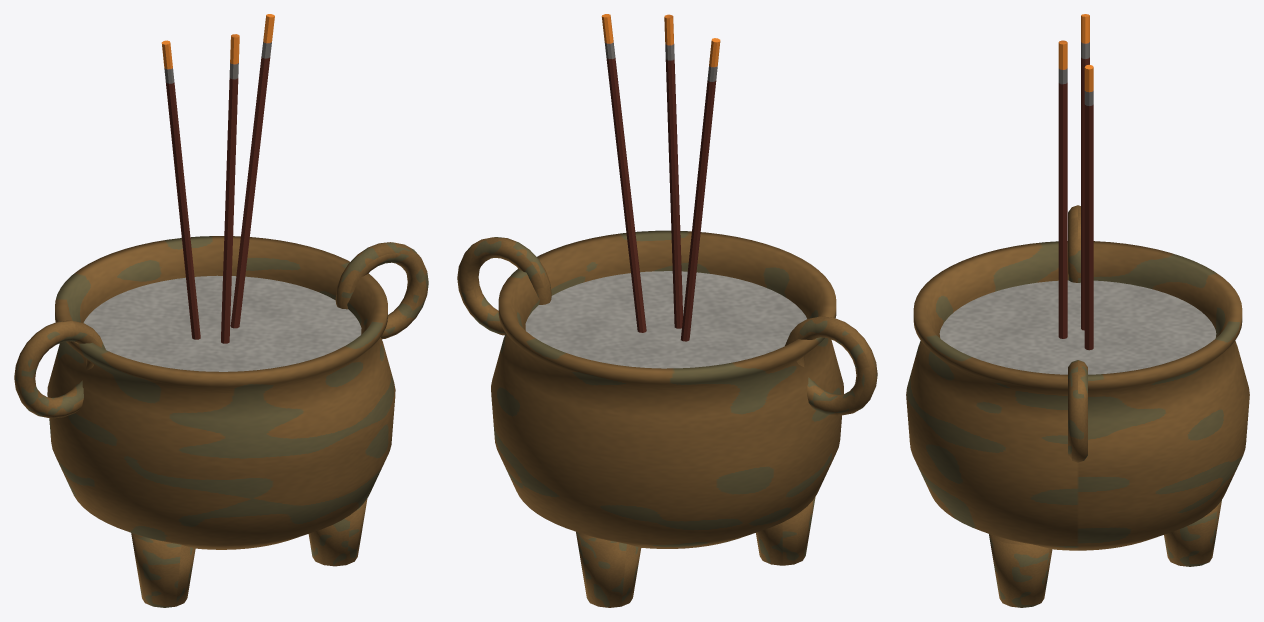
Rendered from z3_incensario.obj.
The picture shows the model from 3 angles, left to right: view 1: azimuth 30°, elevation 25°; view 2: azimuth 150°, elevation 25°; view 3: azimuth 270°, elevation 25°; orthographic projection. The views are drawn at different scales.
Parts seen in each view (by area): view 1: incensario; view 2: incensario; view 3: incensario.
Boxes of the visible parts, x1,y1,x2,y2 form: incensario: (14,14,428,607); incensario: (457,14,877,607); incensario: (906,14,1249,607).
Size of the model in its own units: 0.1256 by 0.153 by 0.092.
Materials: 3 (3 with a texture image).
